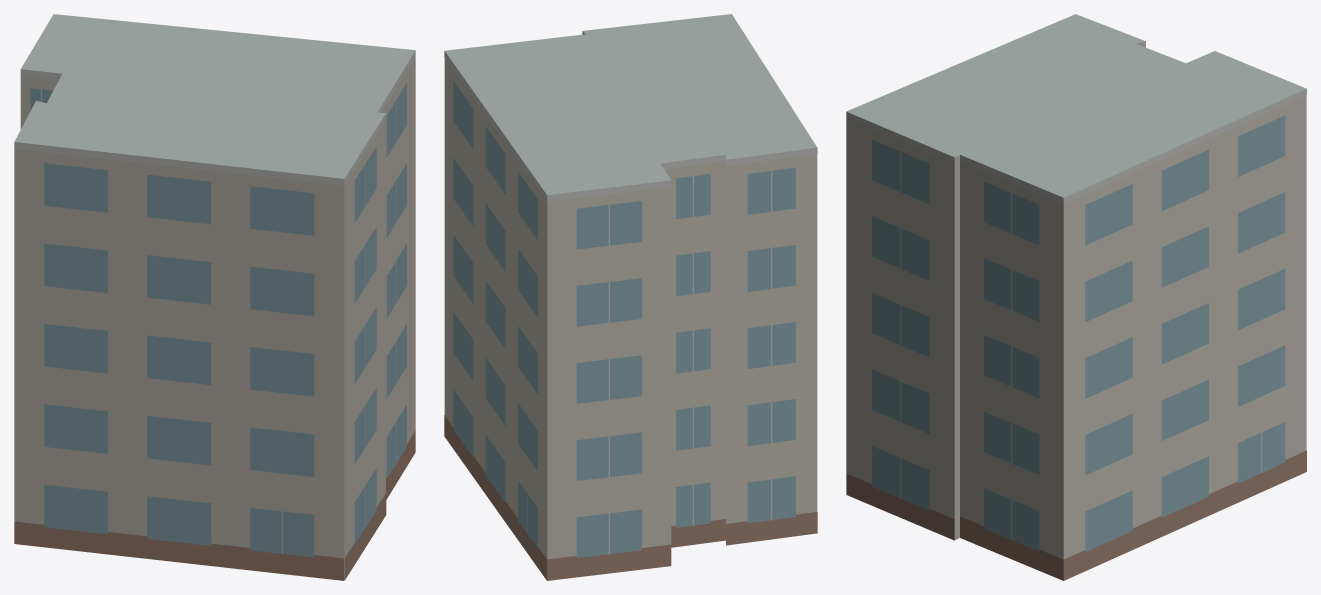
The model's file is survey-upis-32818581.glb.
3 renders of one model, left to right at view 1: azimuth 30°, elevation 25°; view 2: azimuth 150°, elevation 25°; view 3: azimuth 270°, elevation 25°, orthographic. The views are drawn at different scales.
Visible parts, largest first — view 1: survey-upis-32818581.tmp; view 2: survey-upis-32818581.tmp; view 3: survey-upis-32818581.tmp.
Part boxes in pixels (x1,y1,x2,y2): survey-upis-32818581.tmp: (14, 14, 415, 580); survey-upis-32818581.tmp: (444, 14, 817, 580); survey-upis-32818581.tmp: (846, 14, 1306, 580).
Bounding box in the file's own units: 14.92 × 14.5 × 15.81.
